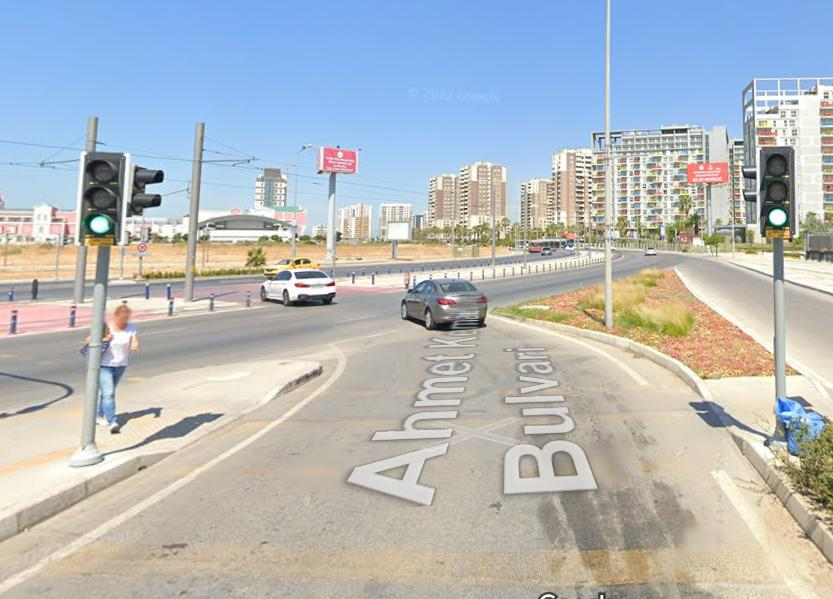greenlight: (76, 153, 124, 244), (759, 142, 798, 237)
